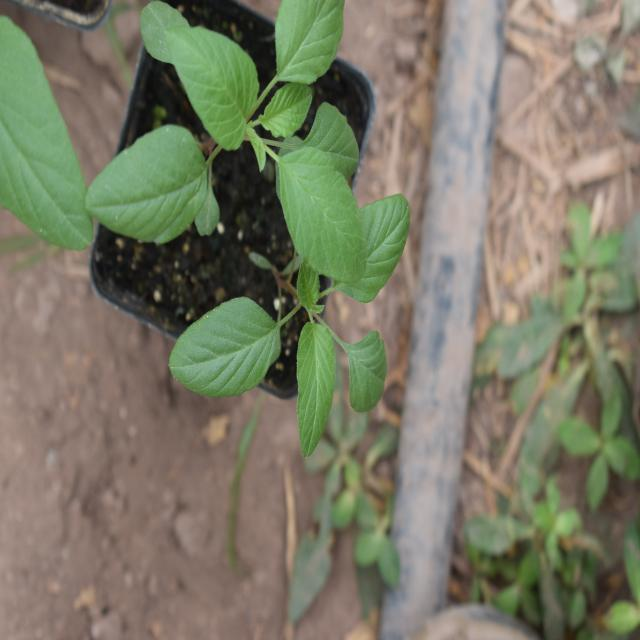pigweed: (88, 0, 376, 258), (177, 212, 404, 436)
